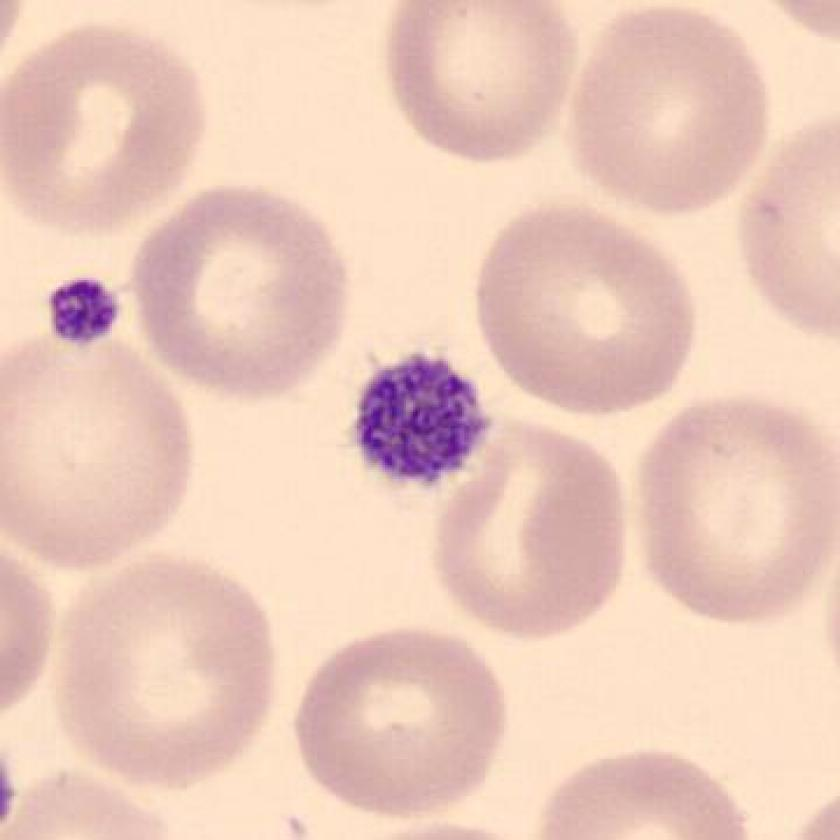platelets: (349, 344, 493, 496), (43, 270, 122, 360)
